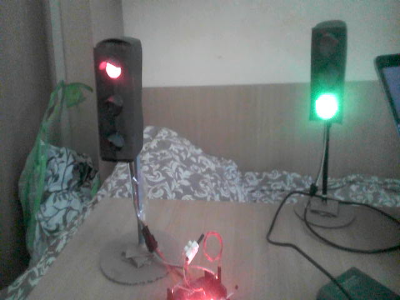trafficlight_green: (311, 25, 343, 122)
trafficlight_red: (94, 43, 131, 159)
